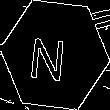N_N: (34, 28, 76, 82)
